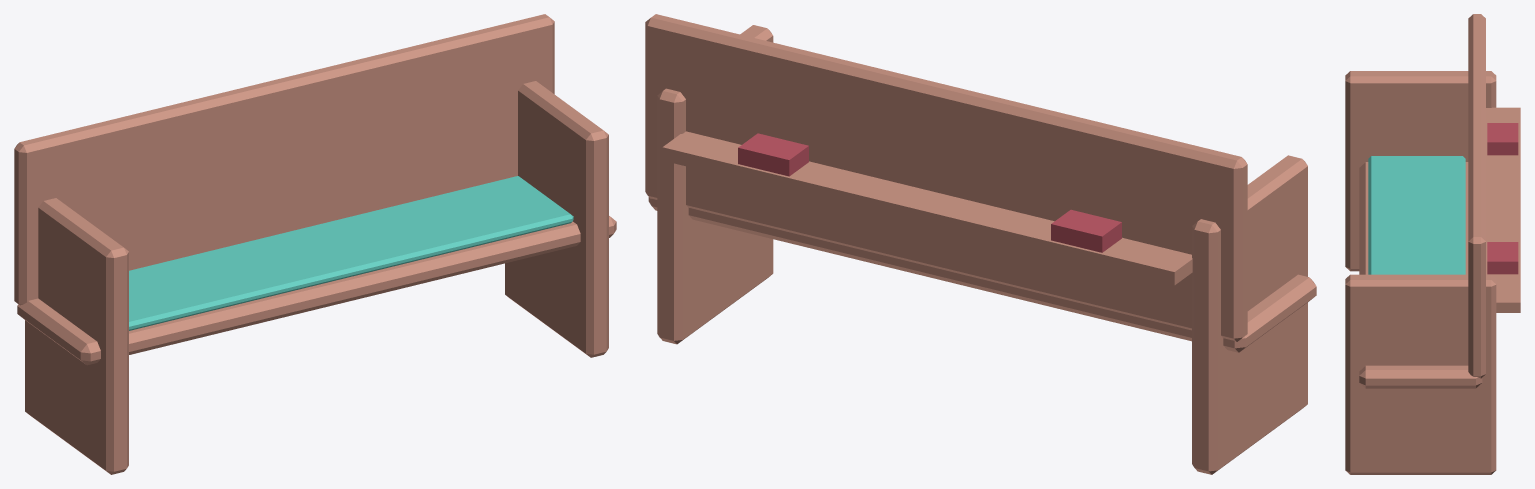
3 views of the same model, side by side, from view 1: azimuth 30°, elevation 25°; view 2: azimuth 150°, elevation 25°; view 3: azimuth 270°, elevation 25° (orthographic). The views are drawn at different scales.
Parts seen in each view (by area): view 1: Back, Seat cushion, End panel, End panel.001, Seat; view 2: Back, End panel, Book rest, End panel.001, Seat, Hymnal cover.001, Hymnal cover; view 3: End panel.001, End panel, Seat cushion, Back, Book rest, Seat, Hymnal cover, Hymnal cover.001.
Part boxes in pixels (<box>): Back: <box>14,14,554,305</box>; Seat cushion: <box>129,176,573,330</box>; End panel: <box>25,198,128,474</box>; End panel.001: <box>505,81,608,357</box>; Seat: <box>17,216,616,365</box>; Back: <box>645,14,1247,341</box>; End panel: <box>1192,155,1307,474</box>; Book rest: <box>662,131,1192,285</box>; End panel.001: <box>657,25,773,344</box>; Seat: <box>648,197,1316,352</box>; Hymnal cover.001: <box>738,133,808,176</box>; Hymnal cover: <box>1051,209,1121,252</box>; End panel.001: <box>1345,274,1496,474</box>; End panel: <box>1345,71,1496,271</box>; Seat cushion: <box>1368,156,1465,274</box>; Back: <box>1468,14,1485,378</box>; Book rest: <box>1486,107,1520,312</box>; Seat: <box>1359,162,1482,388</box>; Hymnal cover: <box>1487,123,1518,155</box>; Hymnal cover.001: <box>1487,242,1518,274</box>.
Size of the model in its own units: 2.1 by 1.06 by 0.685.
1 material, 1 textured.
